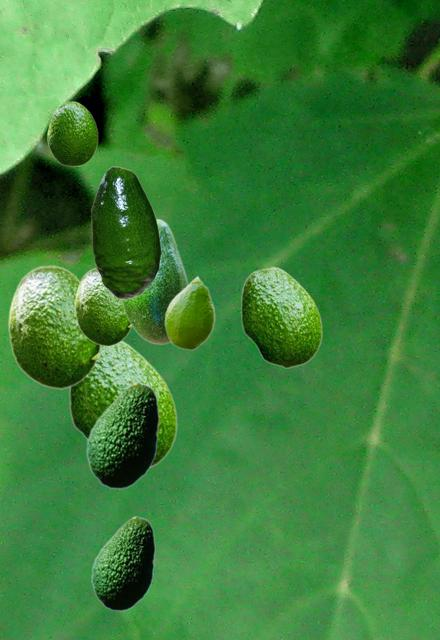avocado: (68, 341, 176, 469), (7, 265, 101, 388), (91, 166, 160, 298), (120, 218, 188, 344), (240, 266, 321, 367), (86, 382, 158, 488), (91, 516, 154, 610), (74, 267, 131, 345), (164, 275, 214, 349), (47, 101, 97, 165)
